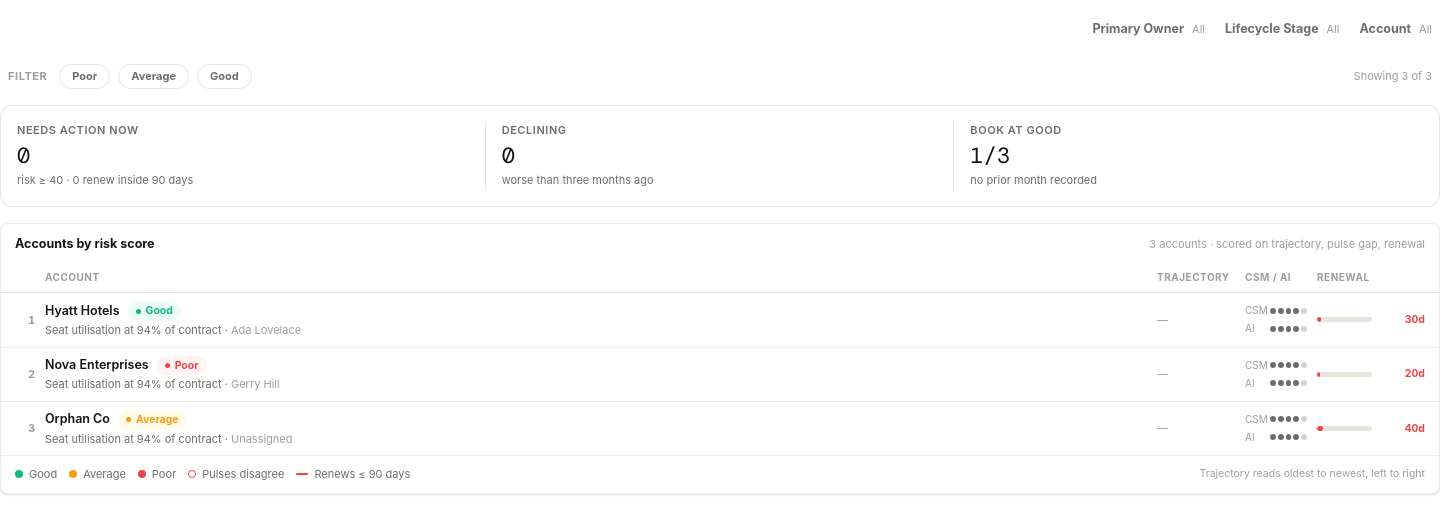
Scenario: Primary Owner filter › clears back to the whole book
Select "Gerry Hill (1)" in the dropdown labelled "Primary Owner": (1149, 30) [1084,12,1213,48]
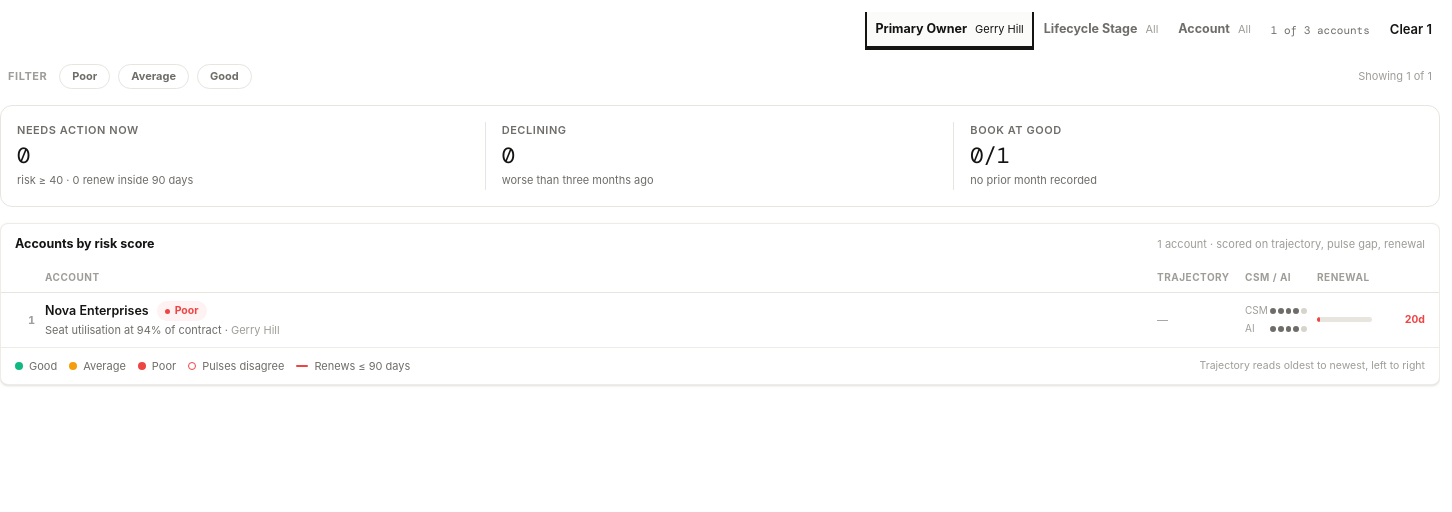
Click the button "Clear 1": (1411, 30) [1382,14,1440,46]
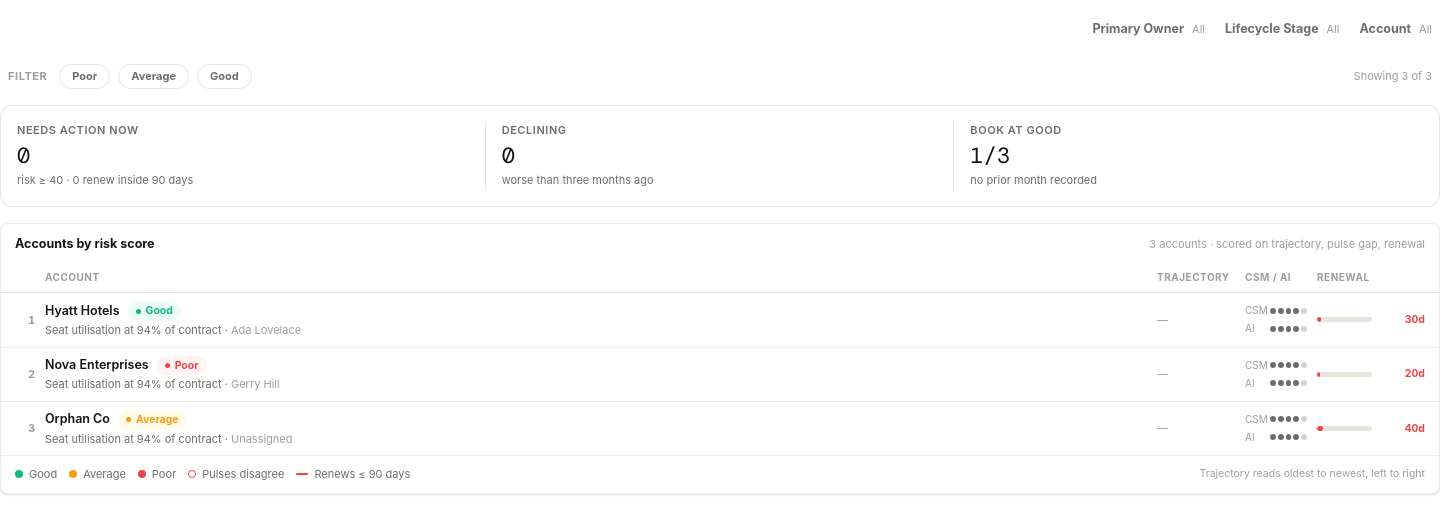
Expected: the text "Hyatt Hotels" is shown, [45,302,120,321]
Expected: the text "of 3 accounts" is gone
